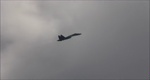maybay_muctieu: (57, 32, 82, 41)
